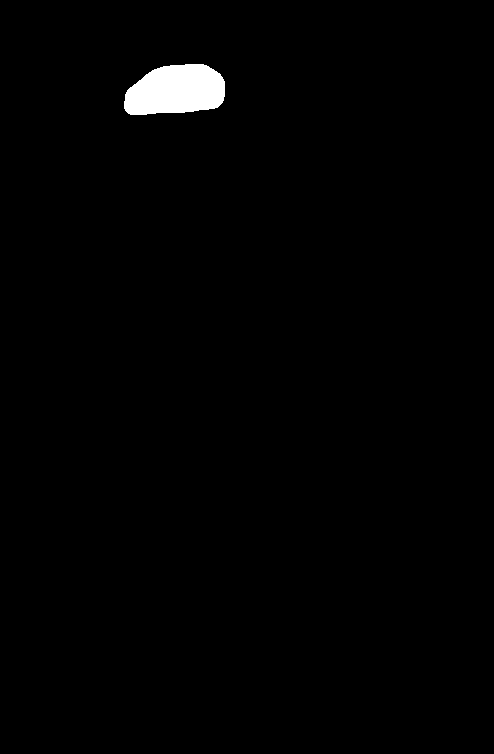veins_detect: (113, 58, 237, 125)
veins_seg: (125, 65, 225, 115)
